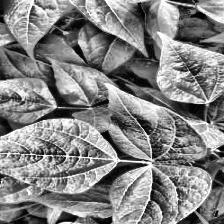Bean Rust: (0, 145, 50, 210)
